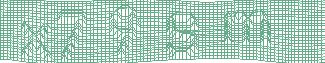7: (56, 9, 86, 63)
9: (108, 5, 142, 58)
S: (163, 11, 202, 63)
m: (221, 9, 271, 49)
x: (17, 21, 54, 62)
